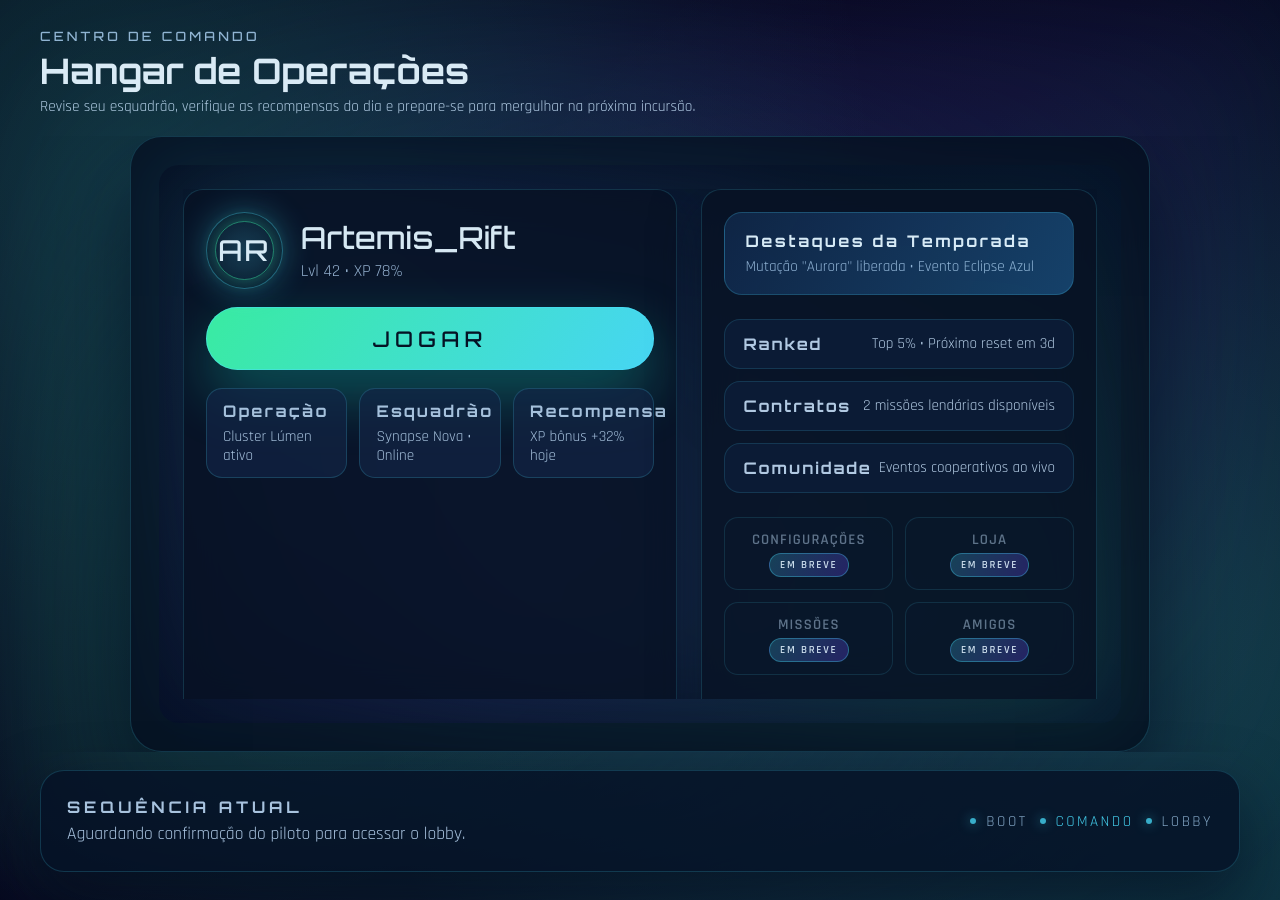
Scenario: MicroWorldOnboardingFlow viewport variants › renders desktop variants for menu and lobby stages
Check: the element with test id "main-menu-screen" is shown, box top-left (159, 165), bottom-right (1121, 723)
Click the button with test id "main-menu-play" at (430, 338), box top-left (206, 306), bottom-right (654, 370)
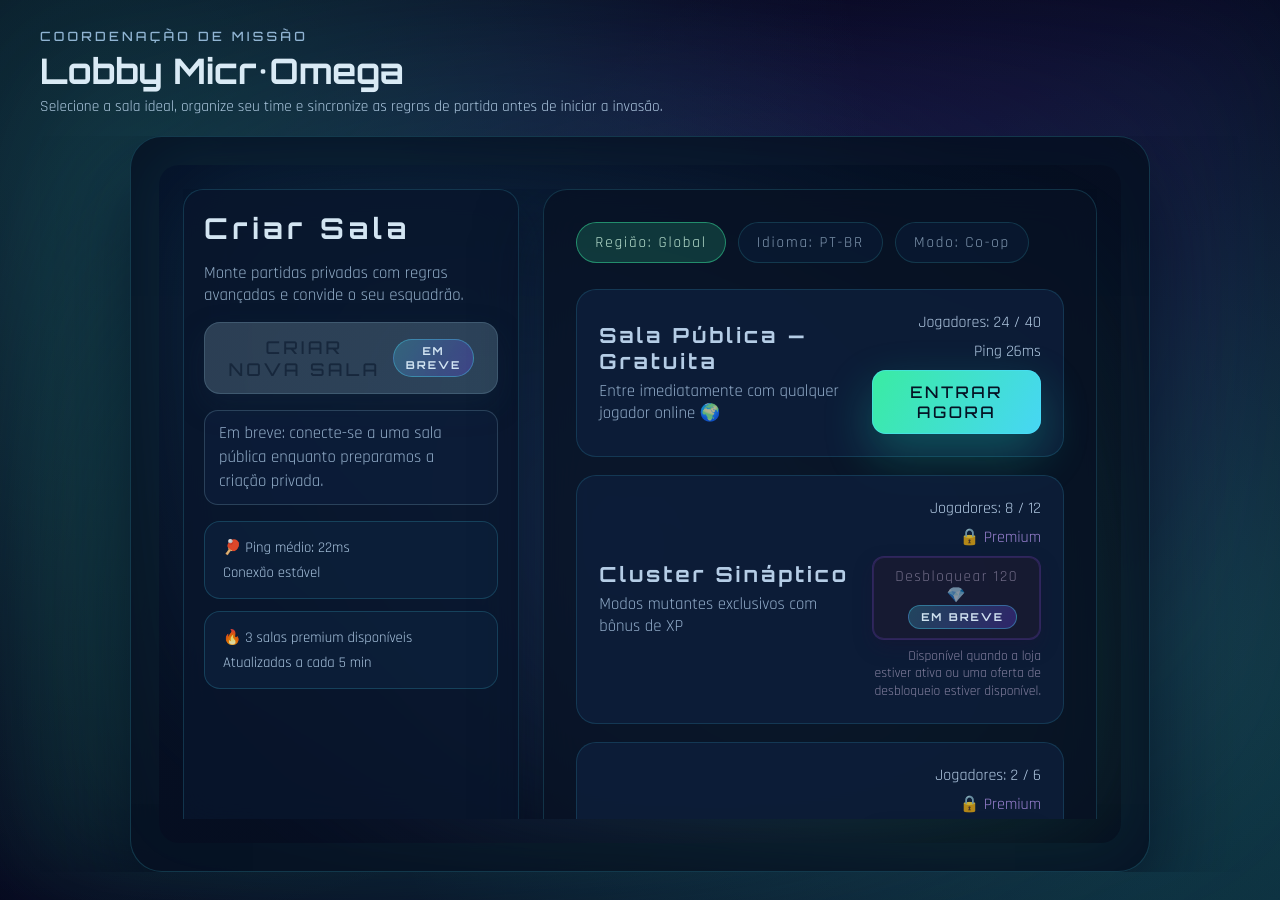
Check: the element with test id "lobby-screen" is shown, box top-left (159, 165), bottom-right (1121, 843)
